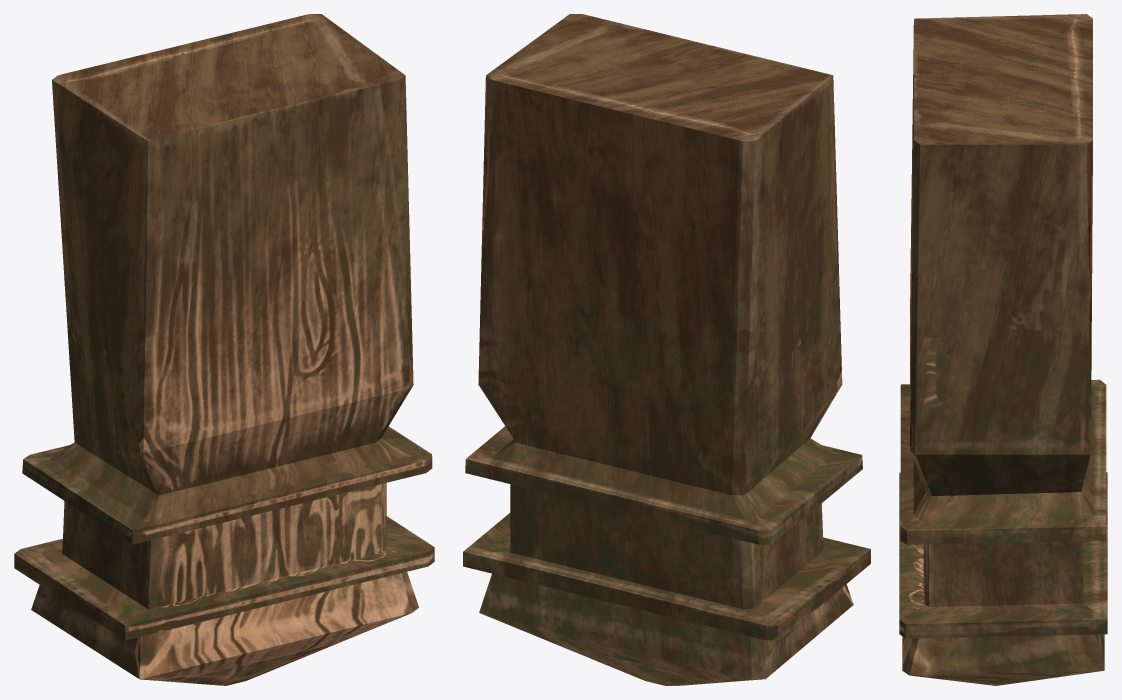
Rendered from SM_HangingColumn.fbx.
3 views of the same model, side by side, from view 1: azimuth 30°, elevation 25°; view 2: azimuth 150°, elevation 25°; view 3: azimuth 270°, elevation 25° (orthographic).
Parts seen in each view (by area): view 1: SM_HangingColumn_LOD0; view 2: SM_HangingColumn_LOD0; view 3: SM_HangingColumn_LOD0.
Boxes of the visible parts, left/top/right/bottom form: SM_HangingColumn_LOD0: left=14, top=14, right=434, bottom=685; SM_HangingColumn_LOD0: left=463, top=14, right=870, bottom=685; SM_HangingColumn_LOD0: left=899, top=14, right=1107, bottom=685.
Bounding box in the file's own units: 69.92 × 39.4 × 125.
Materials: 1 (1 with a texture image).
